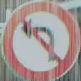Don't turn left: (5, 3, 75, 74)
